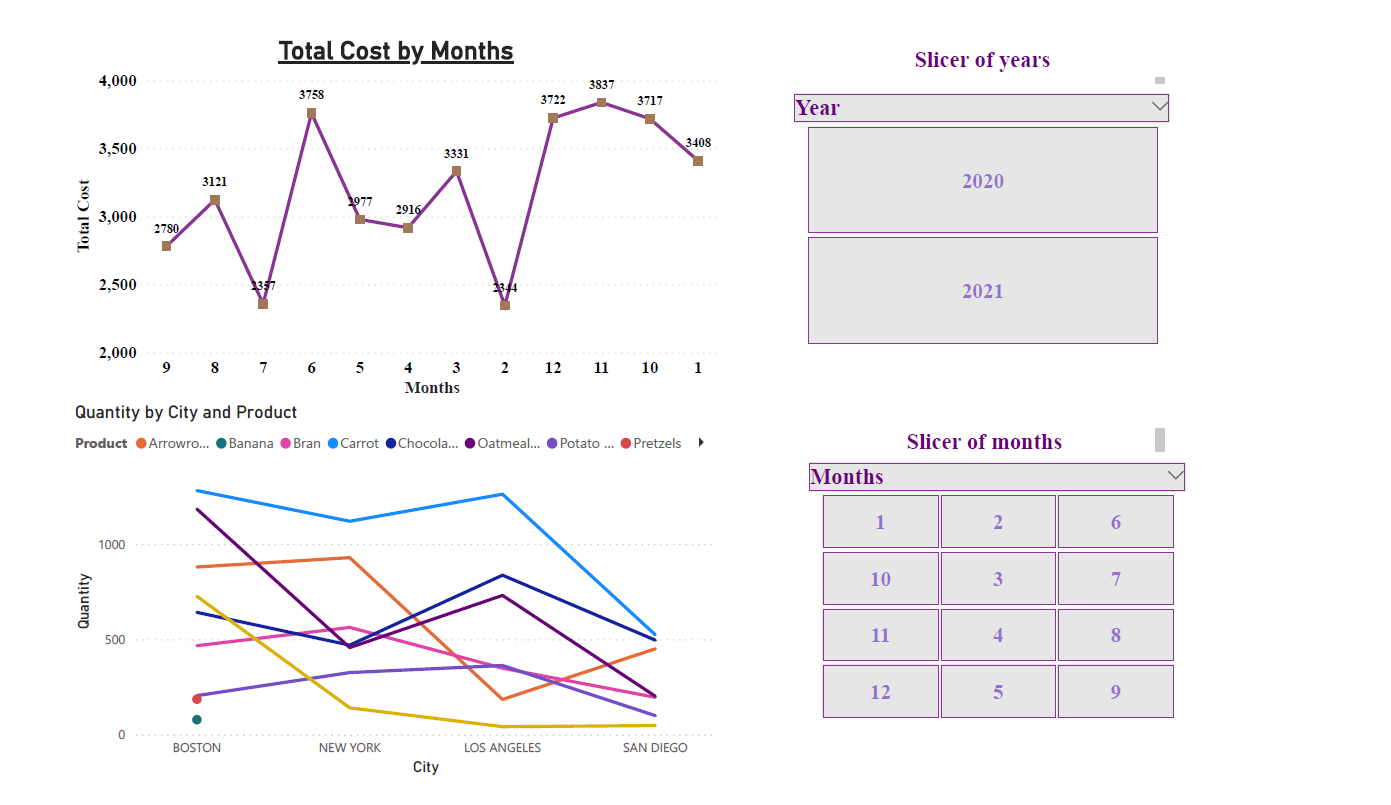

What the dashboard file says about the page in this screenshot:
{"tool":"powerbi","page":{"name":"Task Page 2","canvas":[1280,720],"ordinal":1},"visuals":[{"type":"lineChart","fields":{"Category":["Food Data.Month"],"Y":["Sum(Food Data.Total Cost)"]},"box":[44.2,12.8,619.8,347.7],"z":0},{"type":"slicer","fields":{"Values":["Food Data.Year"]},"box":[718.6,62.8,382.6,248.8],"z":1000},{"type":"textbox","title":"Slicer of years","box":[732.6,23.3,355.8,39.5],"z":2000},{"type":"lineChart","fields":{"Category":["Food Data.City"],"Y":["Sum(Food Data.Quantity)"],"Series":["Food Data.Product"]},"box":[44.2,360.5,618.6,359.3],"z":3000},{"type":"slicer","fields":{"Values":["Food Data.Months"]},"box":[732.6,412.8,383.7,254.7],"z":4000},{"type":"textbox","box":[744.9,380.9,343.6,31.6],"z":5000}]}

Visuals, with their boxes in screenshot pixels (x1, y1, x2, y2), scaled from the page's 1280x720 canvas onto the 1391x805 screenshot:
lineChart - Food Data.Month x Sum(Food Data.Total Cost): l=48, t=14, r=722, b=403
slicer - Food Data.Year: l=781, t=70, r=1197, b=348
"Slicer of years" textbox: l=796, t=26, r=1183, b=70
lineChart - Food Data.City x Sum(Food Data.Quantity): l=48, t=403, r=720, b=804
slicer - Food Data.Months: l=796, t=462, r=1213, b=746
textbox: l=809, t=426, r=1183, b=461
